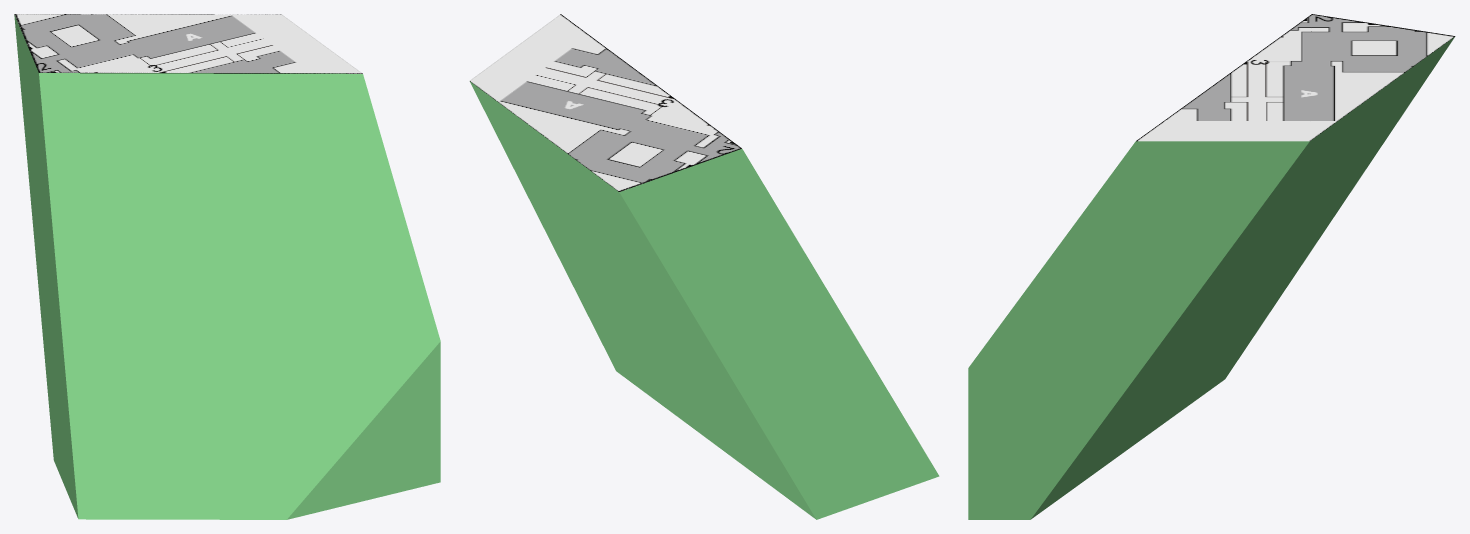
File: Right_G.glb
The picture shows the model from 3 angles, left to right: view 1: azimuth 30°, elevation 25°; view 2: azimuth 150°, elevation 25°; view 3: azimuth 270°, elevation 25°; orthographic projection. The views are drawn at different scales.
Parts seen in each view (by area): view 1: Right_G; view 2: Right_G; view 3: Right_G.
Boxes of the visible parts, box(x1,y1,x2,y2) form: Right_G: box(14, 14, 440, 519); Right_G: box(469, 14, 939, 519); Right_G: box(968, 14, 1455, 519).
Size of the model in its own units: 3.23 by 3.51 by 4.09.
Materials: 2 (1 with a texture image).
